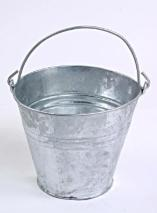SEAU: (0, 10, 153, 209)
